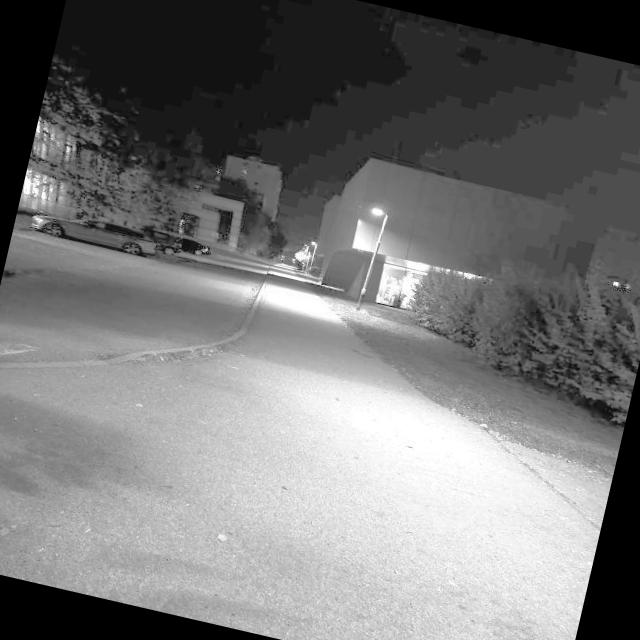Light: (348, 205, 390, 312), (296, 234, 326, 276)
